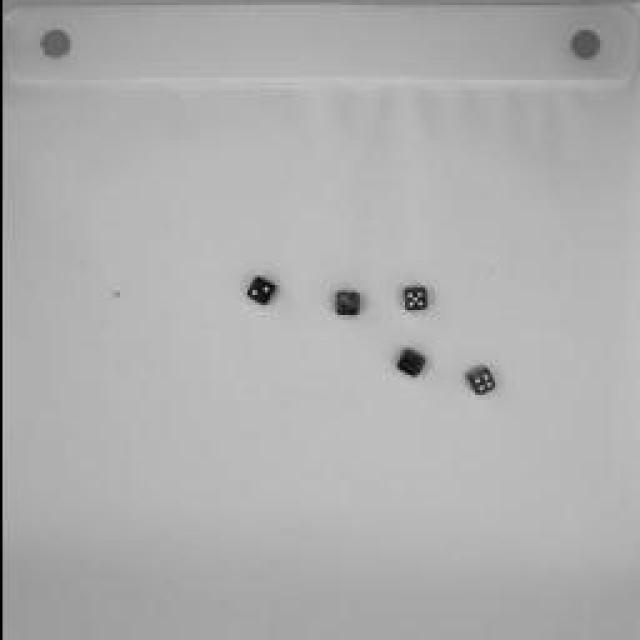dice_2: (245, 276, 277, 304), (332, 290, 362, 315)
dice_4: (465, 364, 490, 394)
dice_5: (404, 285, 426, 313)
dice_6: (395, 345, 425, 380)
